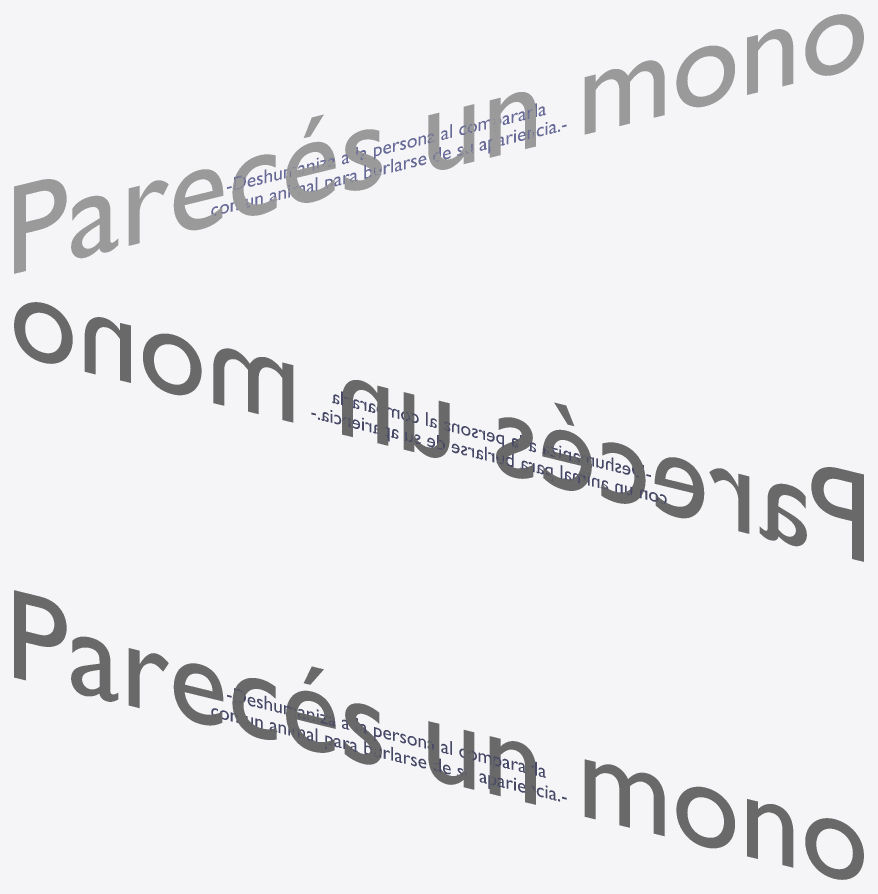
Rendered from palabras2.glb.
The picture shows the model from 3 angles, top to bottom: view 1: azimuth 30°, elevation 25°; view 2: azimuth 150°, elevation 25°; view 3: azimuth 330°, elevation 25°; orthographic projection.
Parts seen in each view (by area): view 1: INDIO, INDIO.001; view 2: INDIO, INDIO.001; view 3: INDIO, INDIO.001.
Boxes of the visible parts, left/top/right/bottom form: INDIO: left=14, top=14, right=863, bottom=273; INDIO.001: left=211, top=103, right=566, bottom=215; INDIO: left=14, top=302, right=863, bottom=561; INDIO.001: left=311, top=391, right=666, bottom=503; INDIO: left=14, top=590, right=863, bottom=879; INDIO.001: left=211, top=688, right=566, bottom=801.
Bounding box in the file's own units: 0.9753 × 0.0971 × 3.57e-09.
